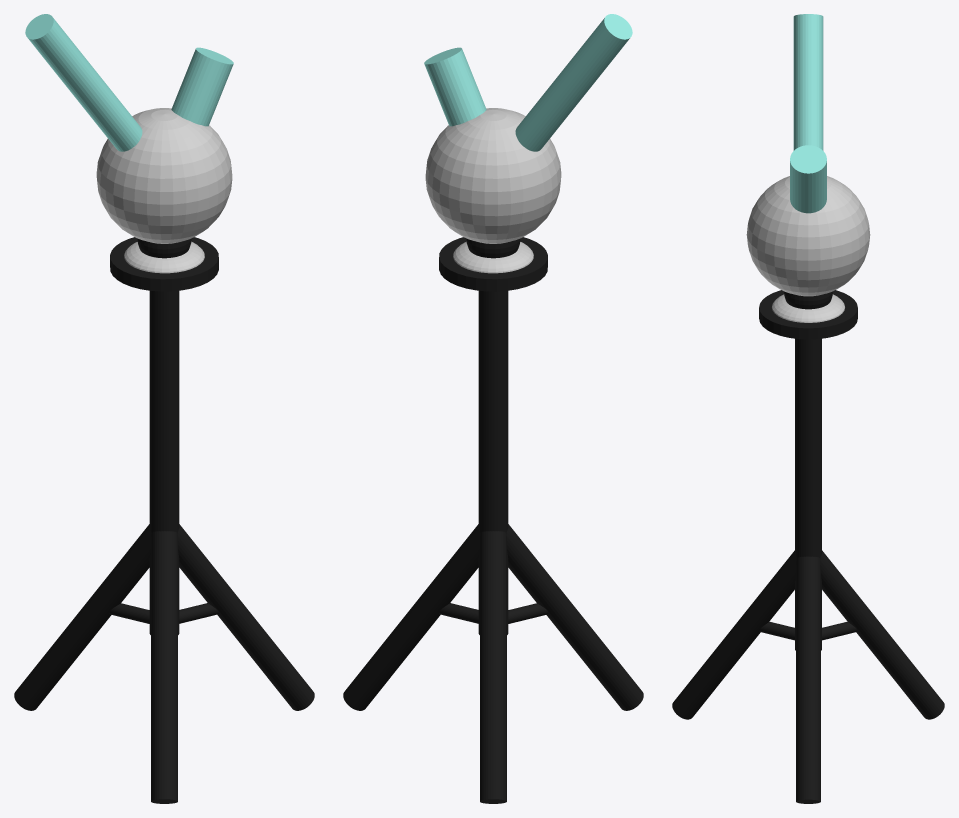
Rendered from ShuttlecockLauncher.fbx.
The picture shows the model from 3 angles, left to right: view 1: azimuth 30°, elevation 25°; view 2: azimuth 150°, elevation 25°; view 3: azimuth 270°, elevation 25°; orthographic projection. The views are drawn at different scales.
Visible parts, largest first — view 1: Base, RotatingPart; view 2: Base, RotatingPart; view 3: Base, RotatingPart.
Part boxes in pixels (x1=…): Base: x1=14, y1=237, x2=314, y2=803; RotatingPart: x1=25, y1=14, x2=233, y2=243; Base: x1=343, y1=237, x2=643, y2=803; RotatingPart: x1=424, y1=14, x2=632, y2=243; Base: x1=672, y1=290, x2=944, y2=803; RotatingPart: x1=746, y1=14, x2=870, y2=296.
Size of the model in its own units: 2.41 by 6.1 by 2.21.
